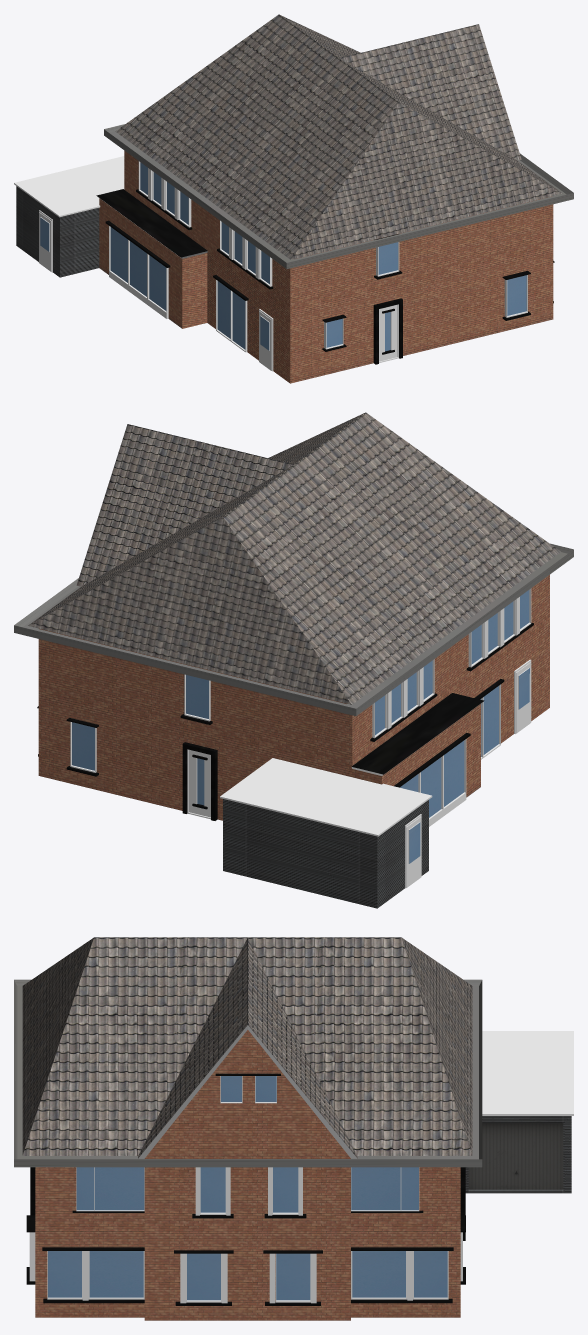
The model's file is Greide 14 en 16.fbx.
The picture shows the model from 3 angles, top to bottom: view 1: azimuth 30°, elevation 25°; view 2: azimuth 150°, elevation 25°; view 3: azimuth 270°, elevation 25°; orthographic projection. The views are drawn at different scales.
Parts seen in each view (by area): view 1: Greide_14_en_16; view 2: Greide_14_en_16; view 3: Greide_14_en_16.
Boxes of the visible parts, x1=… form: Greide_14_en_16: x1=14, y1=14, x2=573, y2=383; Greide_14_en_16: x1=14, y1=412, x2=573, y2=908; Greide_14_en_16: x1=14, y1=937, x2=573, y2=1320.
Size of the model in its own units: 15.56 by 10.13 by 17.25.
Materials: 1 (1 with a texture image).
